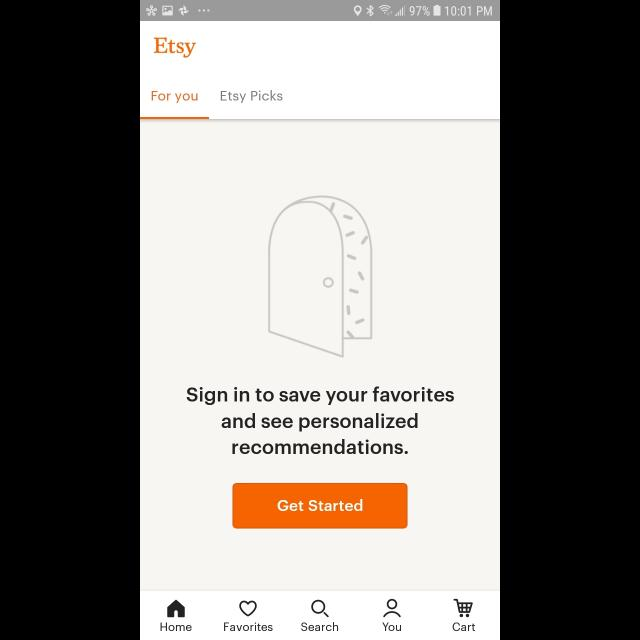icon: (383, 598, 401, 618), (453, 599, 472, 617), (311, 599, 329, 617), (167, 599, 185, 617), (239, 600, 257, 616)
image: (268, 195, 374, 358)
text: (188, 386, 454, 454), (221, 90, 283, 104), (154, 38, 196, 58), (152, 92, 198, 105), (224, 622, 272, 632), (160, 622, 192, 632), (302, 622, 338, 630), (382, 622, 402, 632), (453, 623, 475, 631)
textbutton: (232, 483, 408, 529)
uppertaskbar: (140, 1, 500, 22)
